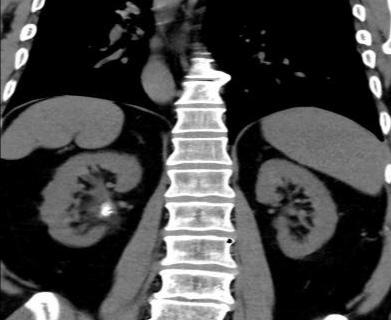Tas_Var: (100, 207, 111, 214), (106, 211, 113, 214), (103, 214, 108, 216)
